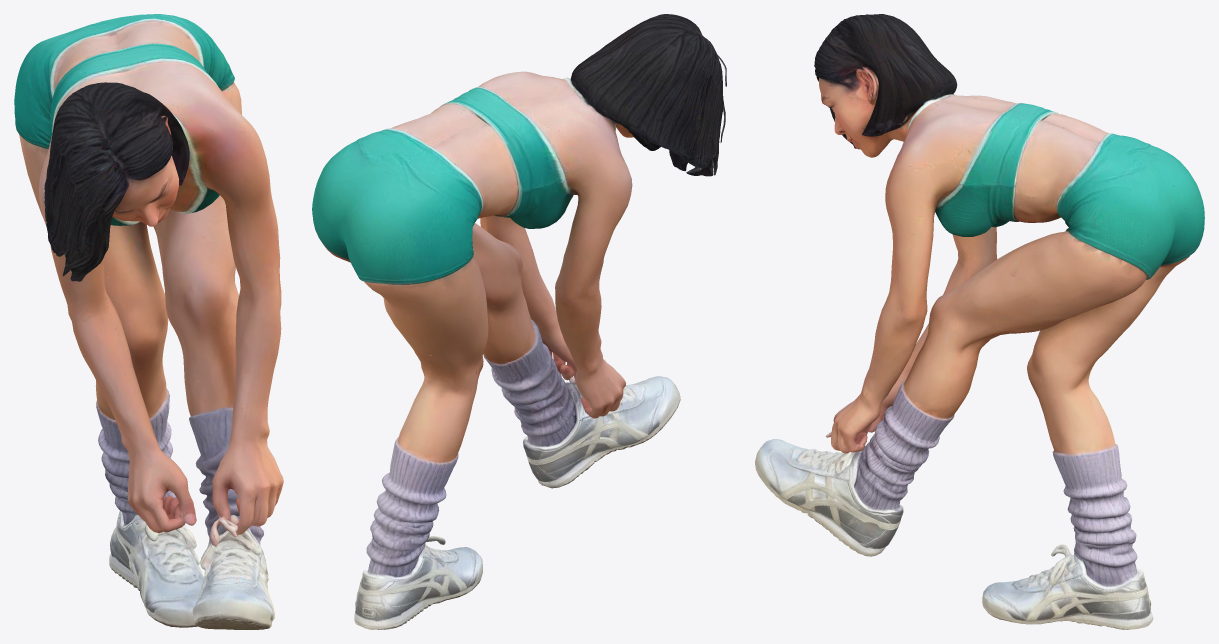
File: SUP_woman_standing_v38__eko.glb
3 renders of one model, left to right at view 1: azimuth 30°, elevation 25°; view 2: azimuth 150°, elevation 25°; view 3: azimuth 270°, elevation 25°, orthographic. The views are drawn at different scales.
Visible parts, largest first — view 1: SUP_woman_standing_v38__eko; view 2: SUP_woman_standing_v38__eko; view 3: SUP_woman_standing_v38__eko.
Part boxes in pixels (box(x1,y1,x2,y2)): SUP_woman_standing_v38__eko: box(14, 14, 283, 629); SUP_woman_standing_v38__eko: box(312, 14, 726, 629); SUP_woman_standing_v38__eko: box(755, 14, 1204, 629).
Bounding box in the file's own units: 0.5179 × 1 × 0.7689.
Materials: 1 (1 with a texture image).
